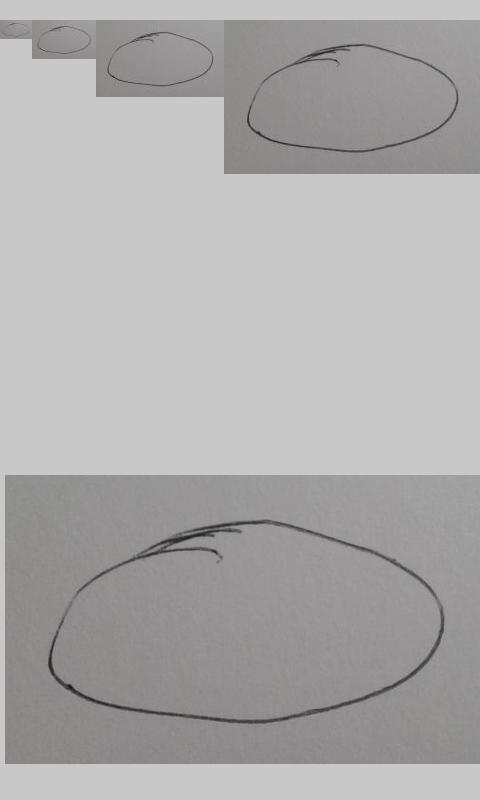chip: (48, 519, 445, 725), (246, 43, 460, 154), (107, 31, 214, 87), (37, 25, 91, 55), (1, 22, 31, 37)
